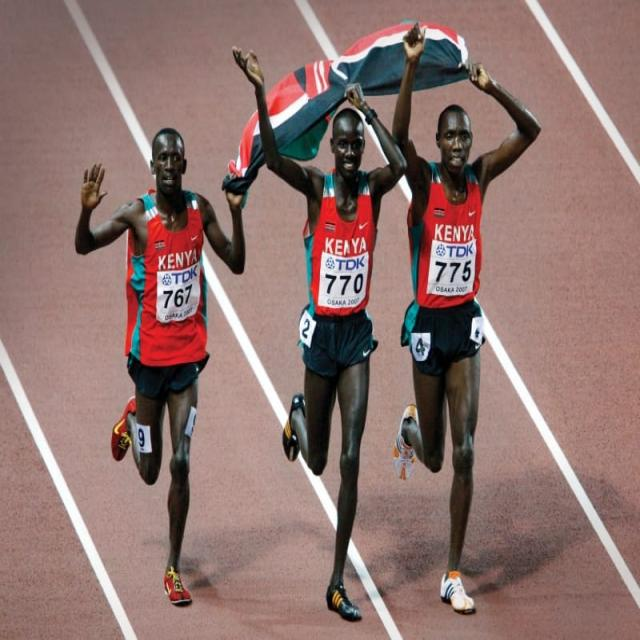running: (232, 46, 404, 627), (397, 19, 544, 616), (74, 123, 248, 615)
